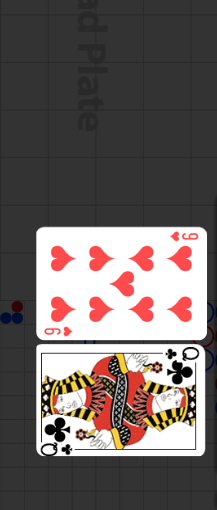9H: (168, 231, 199, 243)
QC: (36, 411, 83, 455), (157, 344, 203, 388)
